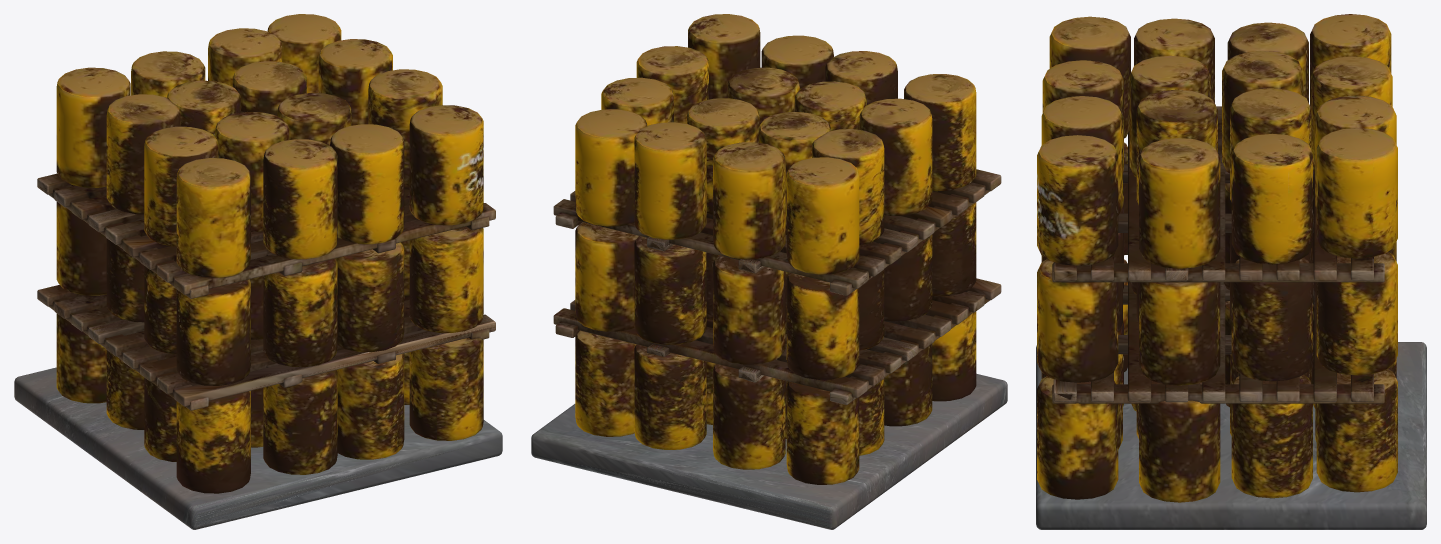
File: Barrel Stack.glb
3 views of the same model, side by side, from view 1: azimuth 30°, elevation 25°; view 2: azimuth 150°, elevation 25°; view 3: azimuth 270°, elevation 25° (orthographic). The views are drawn at different scales.
Parts seen in each view (by area): view 1: palet; view 2: palet; view 3: palet.
Part boxes in pixels (x1,y1,x2,y2): palet: (14, 14, 502, 529); palet: (531, 14, 1007, 529); palet: (1036, 14, 1426, 529).
Size of the model in its own units: 2 by 2.04 by 2.
1 material, 1 textured.
